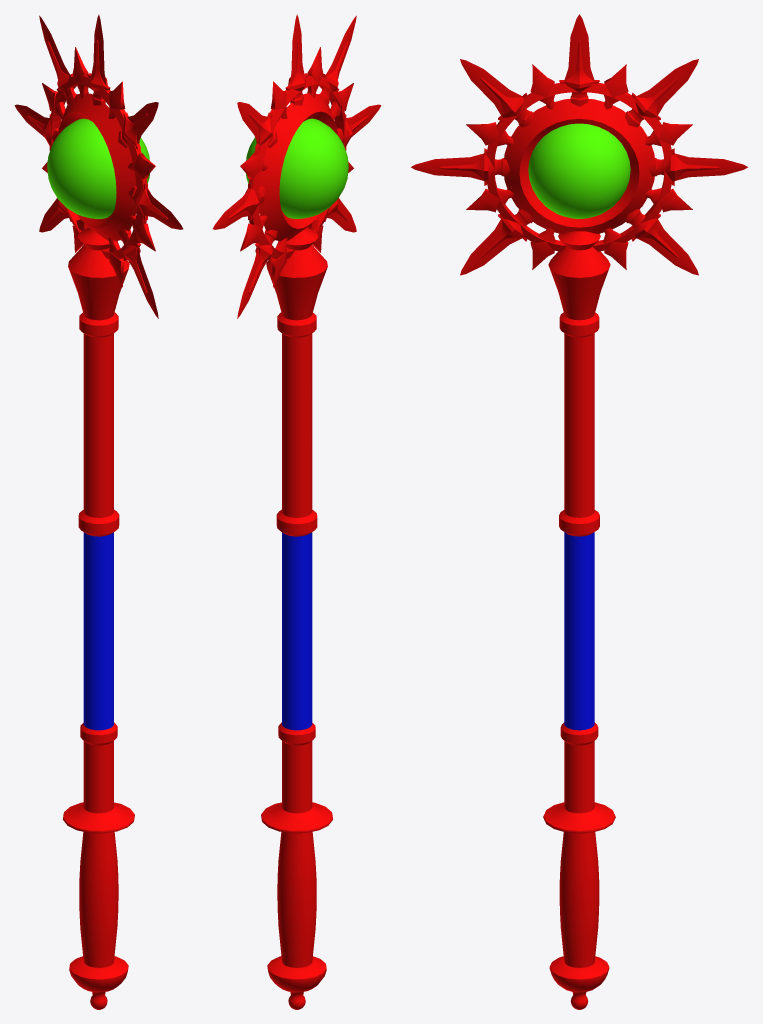
Rendered from SunScepterText.fbx.
3 renders of one model, left to right at view 1: azimuth 30°, elevation 25°; view 2: azimuth 150°, elevation 25°; view 3: azimuth 270°, elevation 25°, orthographic.
Visible parts, largest first — view 1: Object007; view 2: Object007; view 3: Object007.
Boxes of the visible parts, x1,y1,x2,y2 form: Object007: (14,14,183,1009); Object007: (212,14,381,1009); Object007: (411,14,747,1009).
Size of the model in its own units: 43.15 by 457 by 141.
